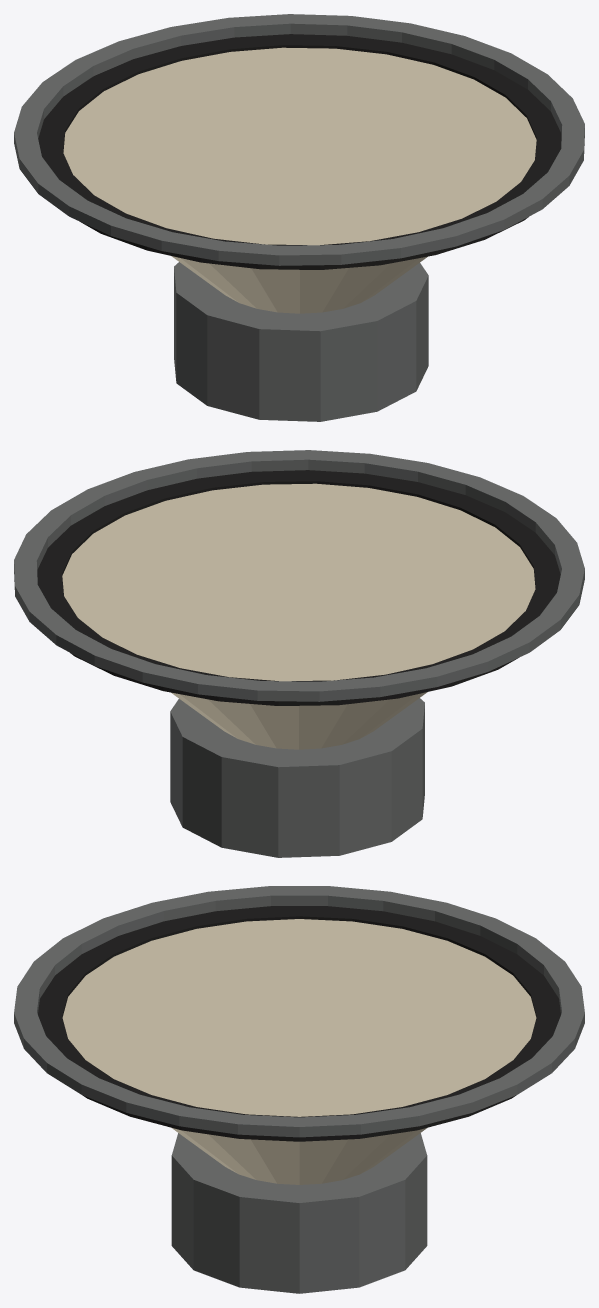
Rendered from speaker-driver-loose.glb.
3 views of the same model, one above another, from view 1: azimuth 30°, elevation 25°; view 2: azimuth 150°, elevation 25°; view 3: azimuth 270°, elevation 25° (orthographic).
Parts seen in each view (by area): view 1: paper, metal, rubber; view 2: paper, metal, rubber; view 3: paper, metal, rubber.
Boxes of the visible parts, x1,y1,x2,y2 form: paper: (63, 47, 536, 313); metal: (14, 14, 584, 421); rubber: (38, 34, 561, 269); paper: (62, 483, 535, 749); metal: (14, 450, 584, 857); rubber: (37, 470, 560, 705); paper: (62, 919, 536, 1184); metal: (14, 886, 584, 1293); rubber: (38, 906, 560, 1141).
Bounding box in the file's own units: 0.1994 × 0.09 × 0.1997.
